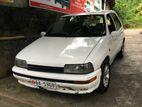car: (8, 10, 132, 102)
